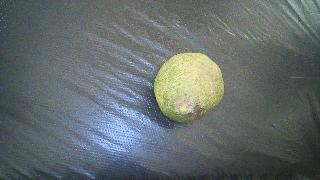DESECHO: (154, 53, 224, 122)
